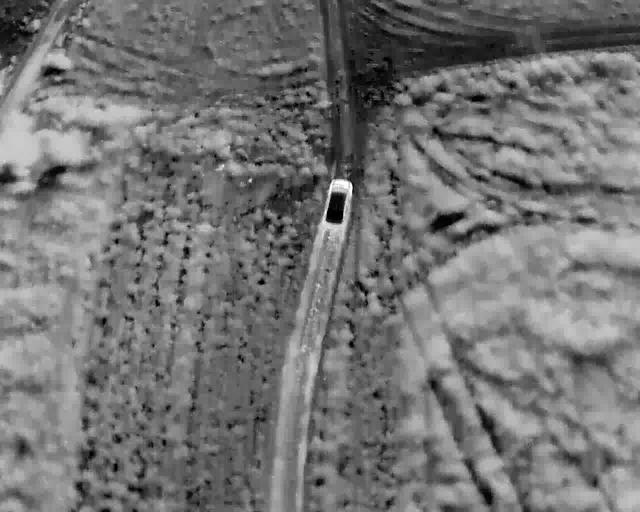car: (320, 179, 353, 229)
